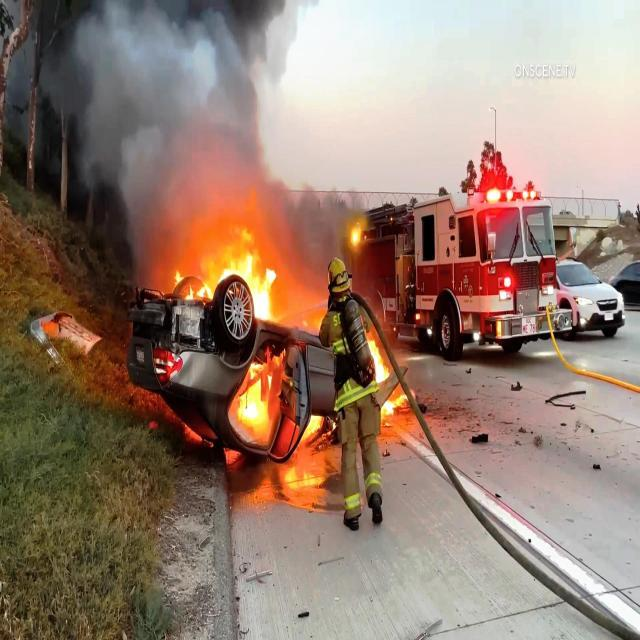Fire: (220, 248, 280, 326)
Smoke: (46, 8, 315, 250)
